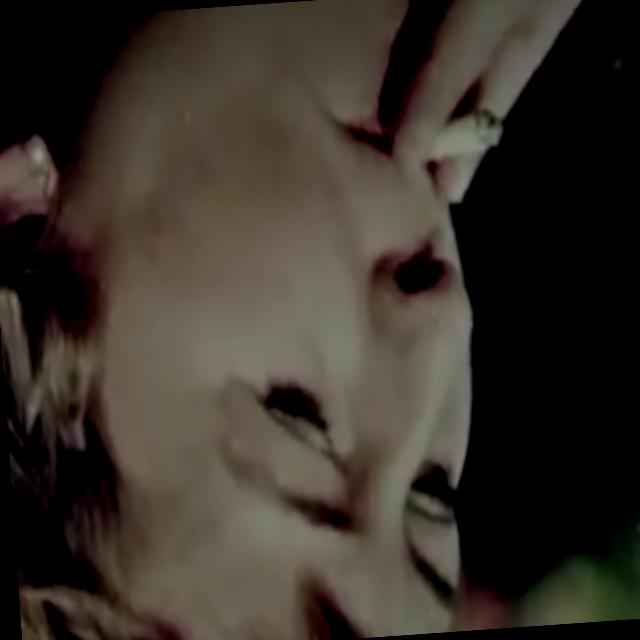smoke: (414, 76, 526, 169)
